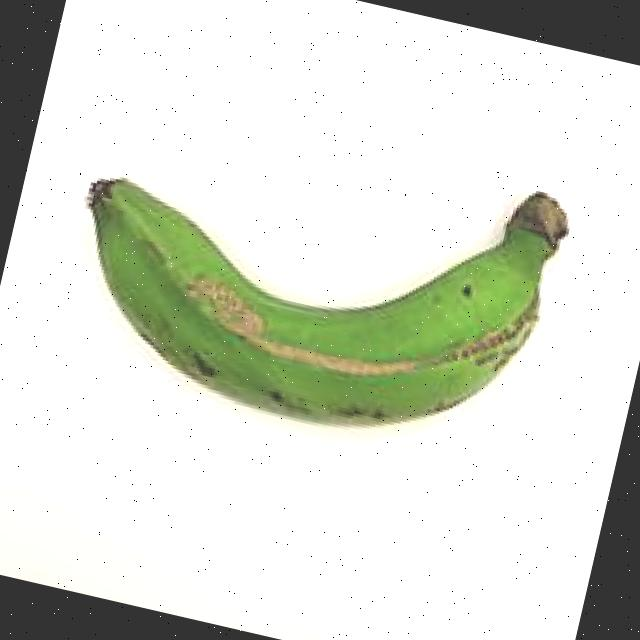Raw: (33, 72, 613, 501)
